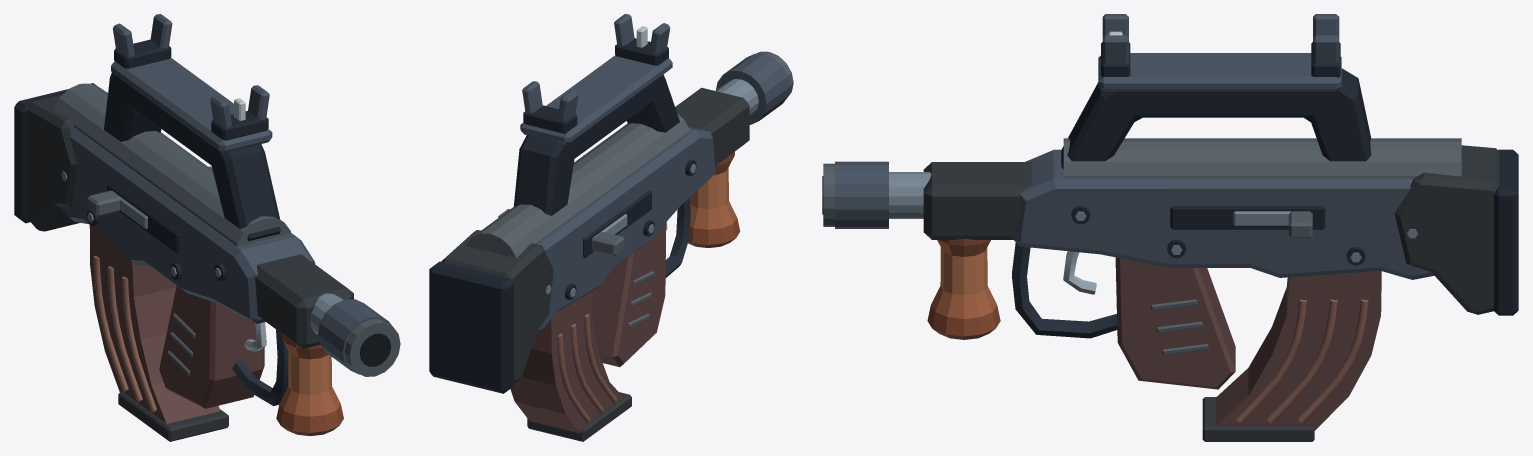
The model's file is Groza.glb.
3 renders of one model, left to right at view 1: azimuth 30°, elevation 25°; view 2: azimuth 150°, elevation 25°; view 3: azimuth 270°, elevation 25°, orthographic. The views are drawn at different scales.
Parts seen in each view (by area): view 1: Main, Magazine, Stock; view 2: Main, Stock, Magazine; view 3: Main, Magazine, Stock.
Boxes of the visible parts, x1=… form: Main: x1=53, y1=14, x2=400, y2=436; Magazine: x1=89, y1=225, x2=228, y2=441; Stock: x1=14, y1=83, x2=107, y2=231; Main: x1=465, y1=14, x2=793, y2=367; Stock: x1=429, y1=230, x2=553, y2=393; Magazine: x1=510, y1=292, x2=631, y2=441; Main: x1=822, y1=14, x2=1461, y2=389; Magazine: x1=1202, y1=271, x2=1381, y2=441; Stock: x1=1394, y1=145, x2=1518, y2=315.
Size of the model in its own units: 0.636 by 1.8 by 2.83.
Materials: 1 (1 with a texture image).
